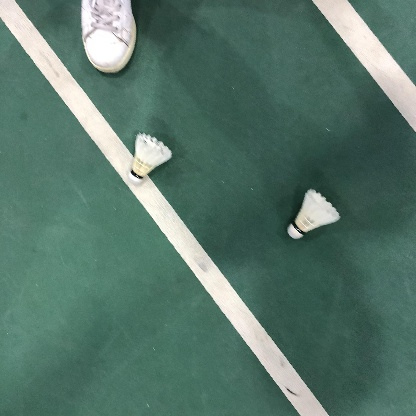ball_single: (287, 189, 340, 239), (129, 132, 172, 185)
